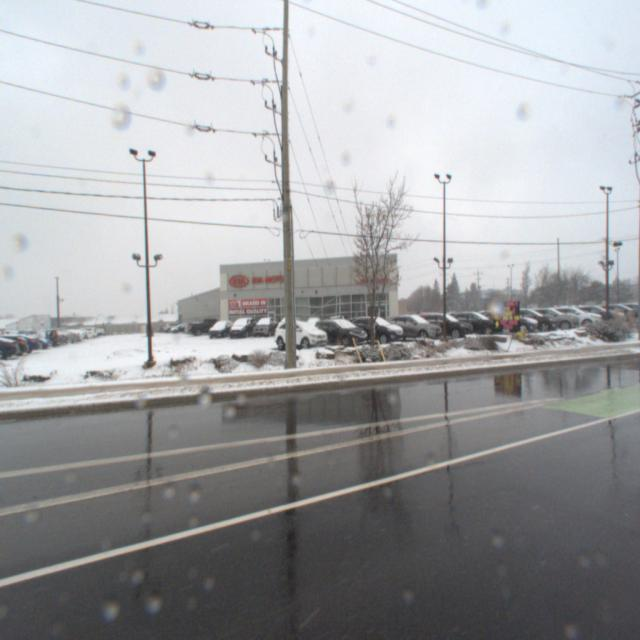Car: (270, 317, 332, 353), (308, 317, 371, 349), (342, 314, 406, 345), (380, 314, 444, 344), (411, 313, 474, 343), (473, 311, 537, 339), (441, 312, 503, 340), (494, 310, 558, 336), (515, 310, 577, 333), (537, 310, 599, 332), (225, 313, 258, 337), (184, 315, 224, 333), (249, 314, 279, 337), (204, 316, 236, 337), (299, 314, 321, 336)
